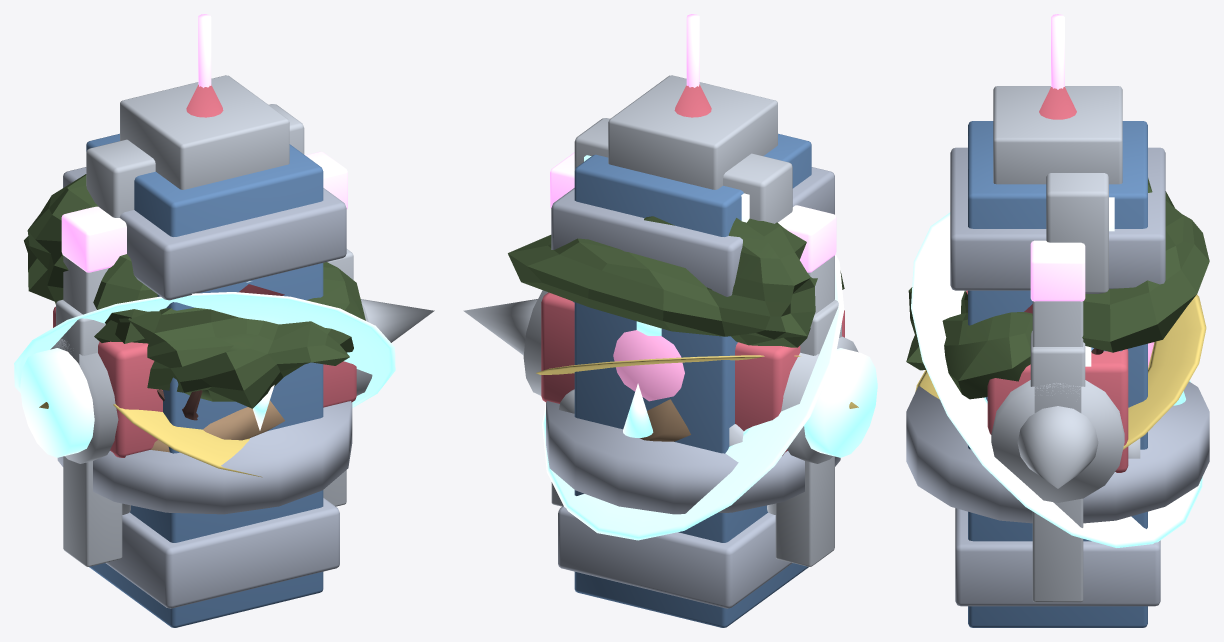
Rendered from stage-props.glb.
3 renders of one model, left to right at view 1: azimuth 30°, elevation 25°; view 2: azimuth 150°, elevation 25°; view 3: azimuth 270°, elevation 25°, orthographic. The views are drawn at different scales.
Visible parts, largest first — view 1: Prop_Skyscraper, Prop_RuinPillar, Prop_Tree, Prop_Fountain, Prop_NeonArch, Prop_CosmicCrystal, Prop_StarshipPod, Hazard_PizzaVan, Prop_Floodlight, Prop_Jumbotron, Prop_MossRock, Prop_CastleTurret; view 2: Prop_Skyscraper, Prop_RuinPillar, Prop_Tree, Prop_Fountain, Prop_CosmicCrystal, Prop_StarshipPod, Prop_NeonArch, Hazard_PizzaVan, Prop_Floodlight, Prop_Balloon, Prop_MossRock, Prop_Jumbotron (+2 smaller); view 3: Prop_Skyscraper, Prop_RuinPillar, Prop_CosmicCrystal, Prop_Fountain, Prop_Tree, Prop_StarshipPod, Prop_NeonArch, Prop_Floodlight, Hazard_PizzaVan, Prop_Jumbotron, Prop_CastleTurret.
Part boxes in pixels (x1,y1,x2,y2): Prop_Skyscraper: (86,14,323,627); Prop_RuinPillar: (63,167,346,608); Prop_Tree: (24,174,365,420); Prop_Fountain: (57,401,352,514); Prop_NeonArch: (61,151,347,566); Prop_CosmicCrystal: (14,292,395,477); Prop_StarshipPod: (20,299,434,463); Hazard_PizzaVan: (53,306,356,457); Prop_Floodlight: (86,104,304,217); Prop_Jumbotron: (56,249,353,514); Prop_MossRock: (150,400,284,452); Prop_CastleTurret: (186,84,284,295); Prop_Skyscraper: (574,14,811,627); Prop_RuinPillar: (551,167,834,608); Prop_Tree: (508,216,844,347); Prop_Fountain: (546,321,840,514); Prop_CosmicCrystal: (536,254,844,540); Prop_StarshipPod: (463,290,877,463); Prop_NeonArch: (550,152,836,566); Hazard_PizzaVan: (541,292,844,455); Prop_Floodlight: (574,118,792,223); Prop_Balloon: (613,330,684,401); Prop_MossRock: (640,399,690,441); Prop_Jumbotron: (767,300,841,514); Prop_Skyscraper: (968,14,1147,627); Prop_RuinPillar: (950,147,1165,606); Prop_CosmicCrystal: (911,212,1206,547); Prop_Fountain: (906,291,1209,523); Prop_Tree: (906,178,1209,399); Prop_StarshipPod: (991,380,1124,502); Prop_NeonArch: (1030,240,1085,602); Prop_Floodlight: (1046,173,1114,293); Hazard_PizzaVan: (987,347,1140,472); Prop_Jumbotron: (1030,331,1091,412); Prop_CastleTurret: (966,87,1076,313).
Bounding box in the file's own units: 4.77 × 6.63 × 3.1.
